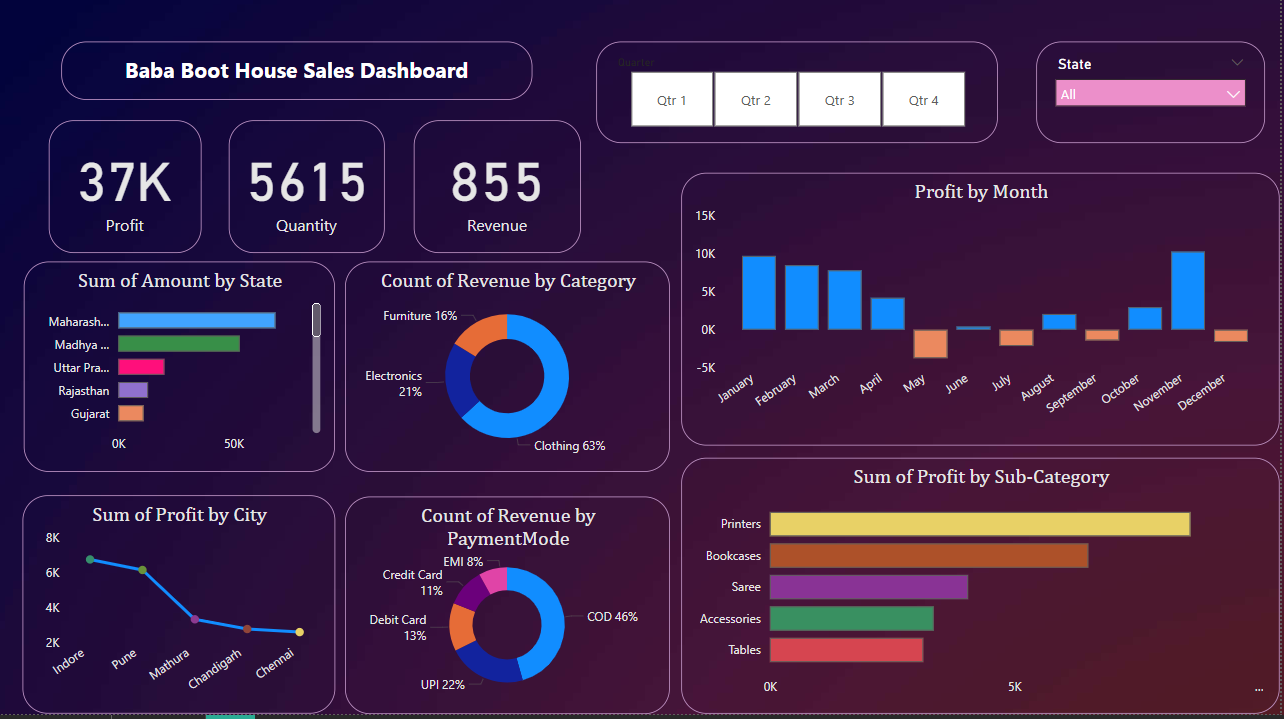

This screenshot's page, from the dashboard's own definition file:
{"tool":"powerbi","page":{"name":"Page 1","canvas":[1280,720],"ordinal":0},"visuals":[{"type":"textbox","box":[61.2,47.5,471.2,58.8],"z":0},{"type":"lineStackedColumnComboChart","title":"Profit by Month","fields":{"Category":["Orders.Order Date.Variation.Date Hierarchy.Month"],"Y":["Sum(Details.Profit)"]},"box":[681.2,178.8,598.8,272.5],"z":1000},{"type":"barChart","fields":{"Category":["Details.Sub-Category"],"Y":["Sum(Details.Profit)"]},"box":[681.2,463.8,598.8,256.2],"z":2000},{"type":"donutChart","fields":{"Category":["Details.Category"],"Y":["CountNonNull(Details.Revenue)"]},"box":[345,267.5,325,210],"z":3000},{"type":"donutChart","fields":{"Category":["Details.PaymentMode"],"Y":["CountNonNull(Details.Revenue)"]},"box":[345,502.5,325,217.5],"z":4000},{"type":"card","fields":{"Values":["Sum(Details.Profit)"]},"box":[48.8,126.2,152.5,132.5],"z":5000},{"type":"card","fields":{"Values":["Sum(Details.Quantity)"]},"box":[228.8,126.2,156.2,132.5],"z":6000},{"type":"card","fields":{"Values":["Count(Details.Revenue)"]},"box":[413.8,126.2,167.5,132.5],"z":7000},{"type":"barChart","fields":{"Category":["Orders.State"],"Y":["Sum(Details.Amount)"]},"box":[23.8,267.5,311.2,210],"z":8000},{"type":"lineChart","fields":{"Category":["Orders.City"],"Y":["Sum(Details.Profit)"]},"box":[22.5,501.2,312.5,218.8],"z":9000},{"type":"slicer","fields":{"Values":["Orders.Order Date.Variation.Date Hierarchy.Quarter"]},"box":[596.2,47.5,401.2,101.2],"z":10000},{"type":"slicer","fields":{"Values":["Orders.State"]},"box":[1036.2,47.5,228.8,101.2],"z":11000}]}

Visuals, with their boxes in screenshot pixels (x1, y1, x2, y2), scaled from the page's 1280x720 canvas onto the 1284x719 screenshot:
textbox: bbox(61, 47, 534, 106)
"Profit by Month" lineStackedColumnComboChart: bbox(683, 179, 1283, 451)
barChart - Details.Sub-Category x Sum(Details.Profit): bbox(683, 463, 1283, 718)
donutChart - Details.Category x CountNonNull(Details.Revenue): bbox(346, 267, 672, 477)
donutChart - Details.PaymentMode x CountNonNull(Details.Revenue): bbox(346, 502, 672, 718)
card - Sum(Details.Profit): bbox(49, 126, 202, 258)
card - Sum(Details.Quantity): bbox(230, 126, 386, 258)
card - Count(Details.Revenue): bbox(415, 126, 583, 258)
barChart - Orders.State x Sum(Details.Amount): bbox(24, 267, 336, 477)
lineChart - Orders.City x Sum(Details.Profit): bbox(23, 501, 336, 718)
slicer - Orders.Order Date.Variation.Date Hierarchy.Quarter: bbox(598, 47, 1001, 148)
slicer - Orders.State: bbox(1039, 47, 1269, 148)
